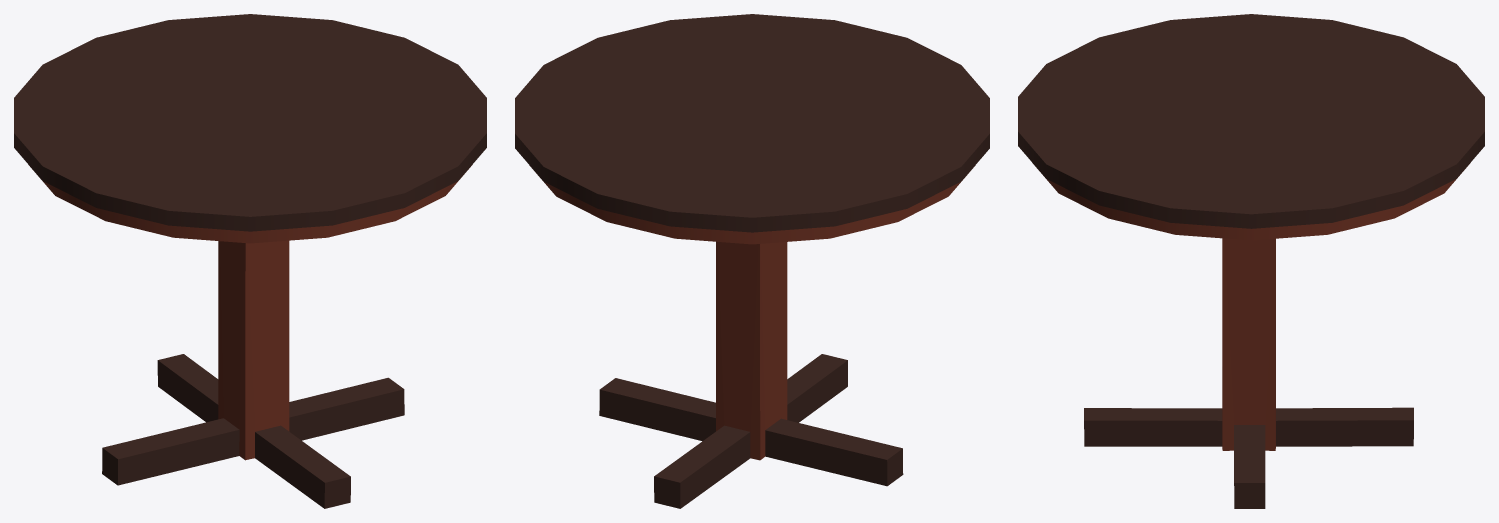
Rendered from small_table.FBX.
The picture shows the model from 3 angles, left to right: view 1: azimuth 30°, elevation 25°; view 2: azimuth 150°, elevation 25°; view 3: azimuth 270°, elevation 25°; orthographic projection.
Parts seen in each view (by area): view 1: small_table; view 2: small_table; view 3: small_table.
Part boxes in pixels (x1,y1,x2,y2): small_table: (14, 14, 486, 508); small_table: (515, 14, 989, 508); small_table: (1018, 14, 1484, 508).
Bounding box in the file's own units: 55.12 × 41.71 × 54.28.
